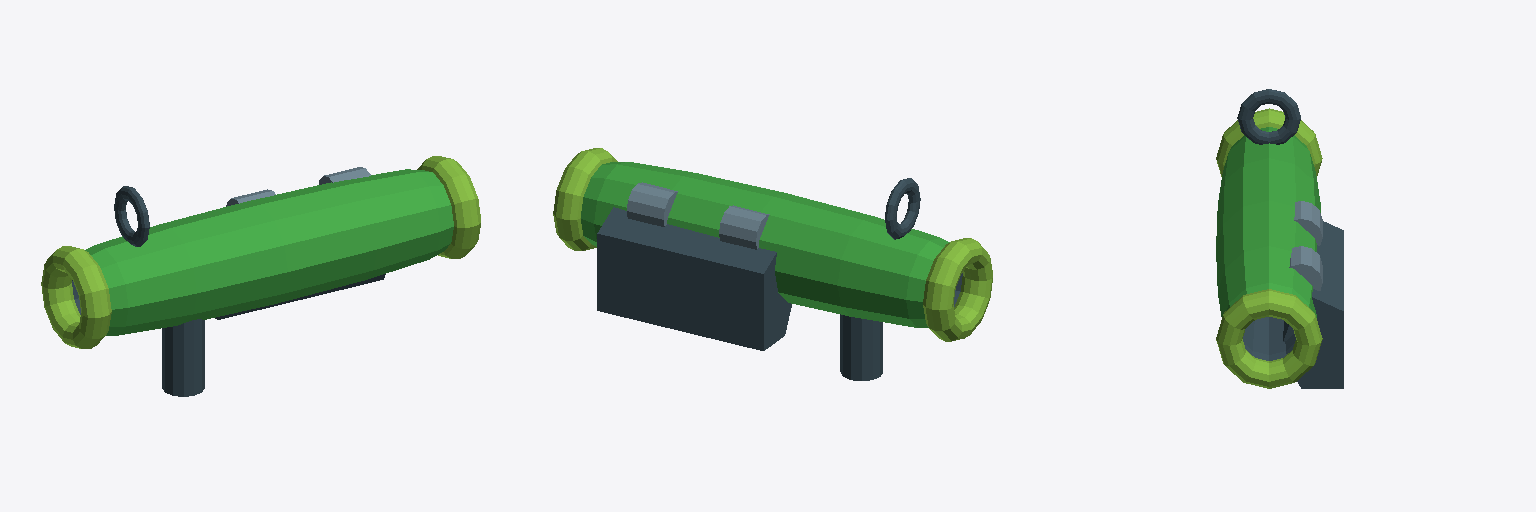
File: Rocket Launcher.obj
The picture shows the model from 3 angles: view 1: azimuth 30°, elevation 25°; view 2: azimuth 150°, elevation 25°; view 3: azimuth 270°, elevation 25°; orthographic projection.
Visible parts, largest first — view 1: group[number redacted], group[number redacted], group[number redacted], group[number redacted], group[number redacted]; view 2: group[number redacted], group[number redacted], group[number redacted], group[number redacted], group[number redacted], group[number redacted], group[number redacted], group[number redacted]; view 3: group[number redacted], group[number redacted], group[number redacted], group[number redacted], group[number redacted], group[number redacted], group[number redacted].
Boxes of the visible parts, box(x1,y1,x2,y2) form: group[number redacted]: box(72, 169, 453, 335); group[number redacted]: box(41, 246, 111, 348); group[number redacted]: box(162, 319, 204, 396); group[number redacted]: box(417, 156, 480, 258); group[number redacted]: box(114, 186, 149, 246); group[number redacted]: box(581, 162, 962, 327); group[number redacted]: box(597, 207, 791, 350); group[number redacted]: box(923, 238, 992, 341); group[number redacted]: box(553, 148, 617, 250); group[number redacted]: box(840, 314, 882, 380); group[number redacted]: box(627, 182, 677, 226); group[number redacted]: box(719, 205, 769, 249); group[number redacted]: box(885, 178, 920, 239); group[number redacted]: box(1216, 127, 1320, 360); group[number redacted]: box(1216, 289, 1322, 388); group[number redacted]: box(1283, 221, 1343, 388); group[number redacted]: box(1237, 89, 1300, 144); group[number redacted]: box(1216, 108, 1322, 176); group[number redacted]: box(1289, 246, 1322, 290); group[number redacted]: box(1294, 201, 1322, 245).
Size of the model in its own units: 0.215 by 0.1075 by 0.06.